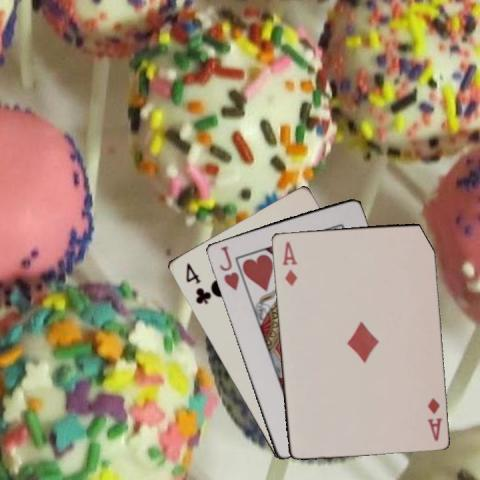4c: (182, 260, 212, 305)
Ad: (279, 238, 298, 287), (424, 394, 443, 442)
Jh: (216, 243, 241, 292)
